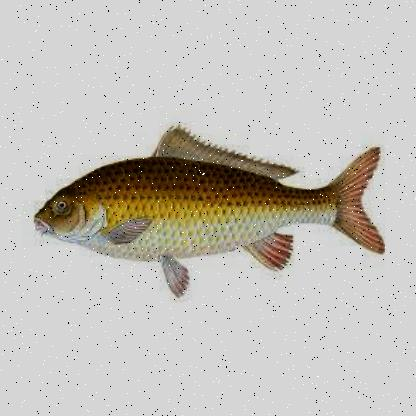ikan-mas: (29, 134, 379, 278)
